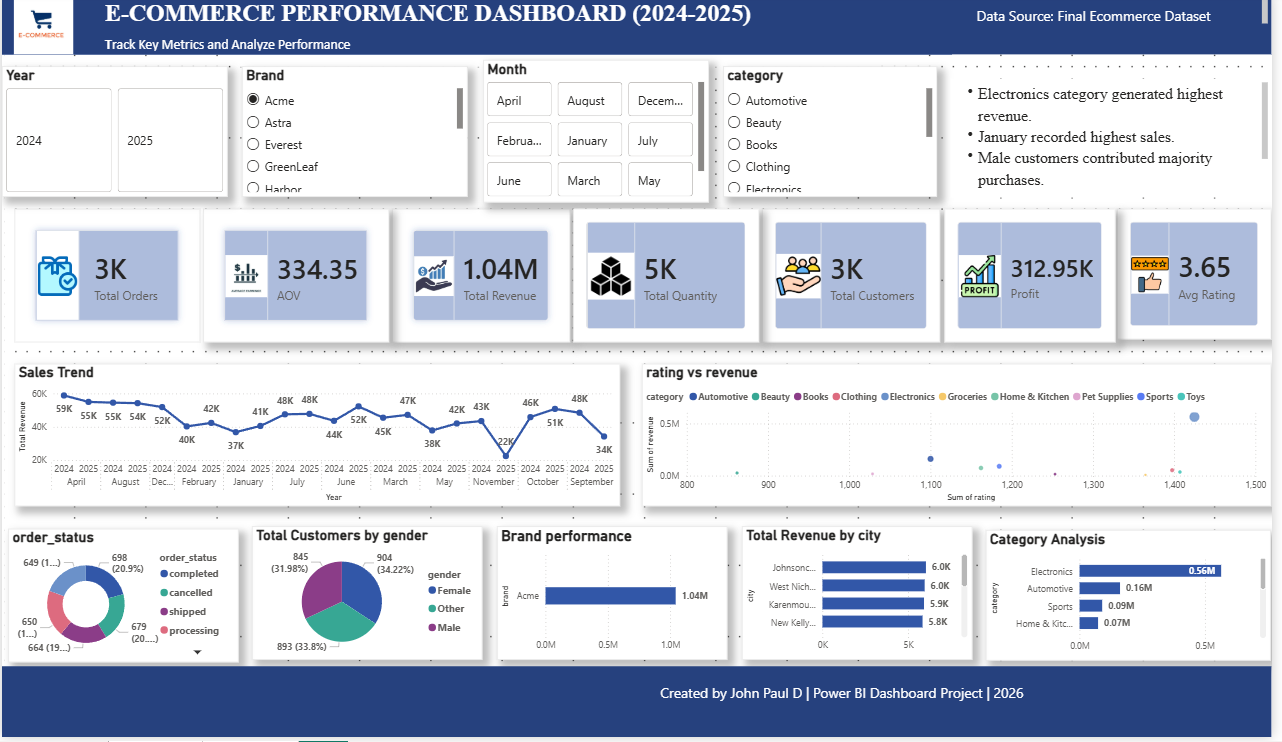

Layout of this report page (visuals, bound fields, positions):
{"tool":"powerbi","page":{"name":"Page 1","canvas":[1710,1000],"ordinal":0},"visuals":[{"type":"cardVisual","fields":{"Data":["final_ecommerce_dataset.Total Orders"]},"box":[16,288,250,180],"z":0},{"type":"cardVisual","fields":{"Data":["final_ecommerce_dataset.Total Revenue"]},"box":[525.3,288,240,180],"z":1000},{"type":"cardVisual","fields":{"Data":["final_ecommerce_dataset.Total Customers"]},"box":[1024.7,288,240,180],"z":2000},{"type":"cardVisual","fields":{"Data":["final_ecommerce_dataset.AOV"]},"box":[270.7,288,250,180],"z":3000},{"type":"barChart","title":"Category Analysis","fields":{"Category":["final_ecommerce_dataset.category"],"Y":["final_ecommerce_dataset.Total Revenue"]},"box":[1326,720,384,176],"z":4000},{"type":"clusteredBarChart","title":"Brand performance","fields":{"Category":["final_ecommerce_dataset.brand"],"Y":["final_ecommerce_dataset.Total Revenue"]},"box":[666.7,715.1,310,180],"z":5000},{"type":"clusteredBarChart","fields":{"Category":["final_ecommerce_dataset.city"],"Y":["final_ecommerce_dataset.Total Revenue"]},"box":[997.4,715.1,310,180],"z":6000},{"type":"pieChart","fields":{"Category":["final_ecommerce_dataset.gender"],"Y":["final_ecommerce_dataset.Total Customers"]},"box":[336.1,715.1,310,180],"z":7000},{"type":"donutChart","title":" order_status","fields":{"Category":["final_ecommerce_dataset.order_status"],"Y":["CountNonNull(final_ecommerce_dataset.order_id)"]},"box":[9.2,718.5,310,180],"z":8000},{"type":"textbox","box":[320,16,864,80],"z":9000},{"type":"listSlicer","fields":{"Values":["final_ecommerce_dataset.category"]},"box":[972,96,288,176],"z":10000},{"type":"listSlicer","title":"Brand","fields":{"Values":["final_ecommerce_dataset.brand"]},"box":[324,96,304,176],"z":11000},{"type":"advancedSlicerVisual","fields":{"Values":["DateTable.Month"]},"box":[648,88,304,192],"z":12000},{"type":"advancedSlicerVisual","fields":{"Values":["DateTable.Year"]},"box":[0,96,304,176],"z":13000},{"type":"cardVisual","fields":{"Data":["final_ecommerce_dataset.Total Quantity"]},"box":[770,288,250,180],"z":14000},{"type":"lineChart","title":"Sales Trend","fields":{"Y":["final_ecommerce_dataset.Total Revenue"],"Category":["DateTable.Month","DateTable.Year"]},"box":[16,496,816,192],"z":15000},{"type":"scatterChart","title":"rating vs revenue","fields":{"X":["Sum(final_ecommerce_dataset.rating)"],"Y":["Sum(final_ecommerce_dataset.revenue)"],"Size":["Sum(final_ecommerce_dataset.revenue)"],"Series":["final_ecommerce_dataset.category"]},"box":[862,496,848,192],"z":16000},{"type":"textbox","box":[1278,112,432,160],"z":17000},{"type":"shape","box":[0,0,1280,80],"z":18000},{"type":"textbox","box":[-2,0,1712,80],"z":19000},{"type":"textbox","box":[-2,904,1712,96],"z":20000},{"type":"cardVisual","fields":{"Data":["final_ecommerce_dataset.Avg Rating"]},"box":[1502,288,208,176],"z":21000},{"type":"image","box":[0,0,112,80],"z":22000},{"type":"cardVisual","fields":{"Data":["final_ecommerce_dataset.Profit"]},"box":[1269.3,288,230,180],"z":23000}]}

Visuals, with their boxes in screenshot pixels (x1, y1, x2, y2), scaled from the page's 1710x1000 canvas onto the 1282x742 screenshot:
cardVisual - final_ecommerce_dataset.Total Orders: [12, 214, 199, 347]
cardVisual - final_ecommerce_dataset.Total Revenue: [394, 214, 574, 347]
cardVisual - final_ecommerce_dataset.Total Customers: [768, 214, 948, 347]
cardVisual - final_ecommerce_dataset.AOV: [203, 214, 390, 347]
"Category Analysis" barChart: [994, 534, 1281, 665]
"Brand performance" clusteredBarChart: [500, 531, 732, 664]
clusteredBarChart - final_ecommerce_dataset.city x final_ecommerce_dataset.Total Revenue: [748, 531, 980, 664]
pieChart - final_ecommerce_dataset.gender x final_ecommerce_dataset.Total Customers: [252, 531, 484, 664]
" order_status" donutChart: [7, 533, 239, 667]
textbox: [240, 12, 888, 71]
listSlicer - final_ecommerce_dataset.category: [729, 71, 945, 202]
"Brand" listSlicer: [243, 71, 471, 202]
advancedSlicerVisual - DateTable.Month: [486, 65, 714, 208]
advancedSlicerVisual - DateTable.Year: [0, 71, 228, 202]
cardVisual - final_ecommerce_dataset.Total Quantity: [577, 214, 765, 347]
"Sales Trend" lineChart: [12, 368, 624, 510]
"rating vs revenue" scatterChart: [646, 368, 1281, 510]
textbox: [958, 83, 1281, 202]
shape: [0, 0, 960, 59]
textbox: [0, 0, 1281, 59]
textbox: [0, 671, 1281, 741]
cardVisual - final_ecommerce_dataset.Avg Rating: [1126, 214, 1281, 344]
image: [0, 0, 84, 59]
cardVisual - final_ecommerce_dataset.Profit: [952, 214, 1124, 347]
